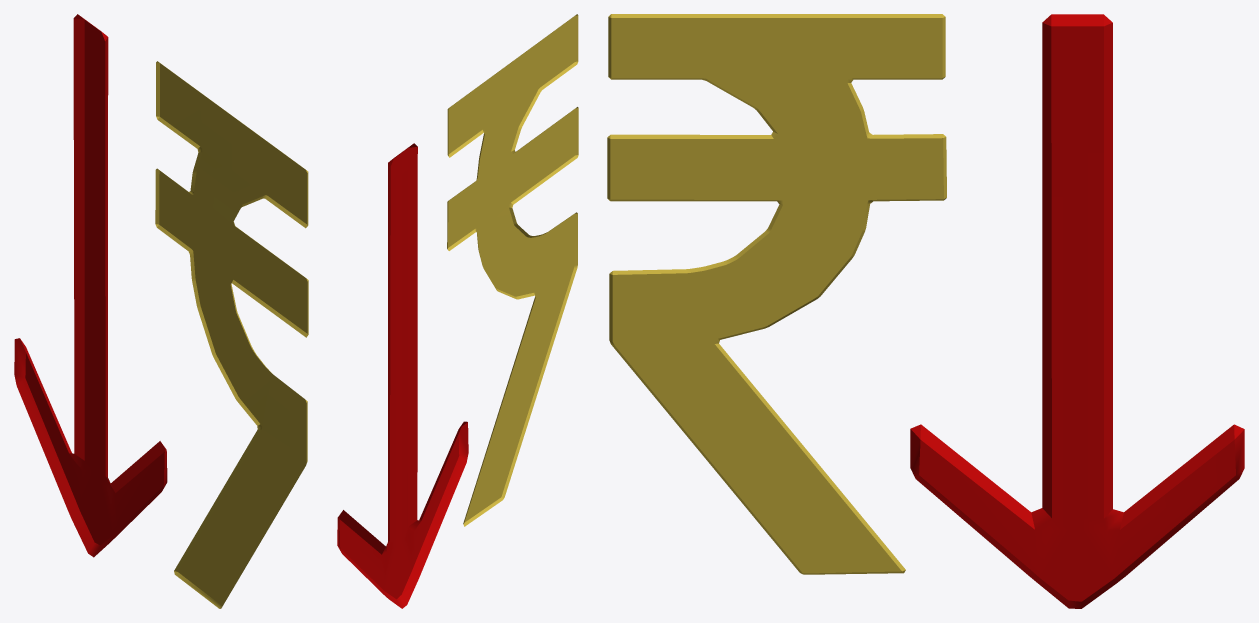
The model's file is inflation red.fbx.
3 renders of one model, left to right at view 1: azimuth 30°, elevation 25°; view 2: azimuth 150°, elevation 25°; view 3: azimuth 270°, elevation 25°, orthographic. The views are drawn at different scales.
Parts seen in each view (by area): view 1: pCube5, pCube6; view 2: pCube5, pCube6; view 3: pCube5, pCube6.
Part boxes in pixels (x1,y1,x2,y2): pCube5: (155,61,308,608); pCube6: (14,14,167,557); pCube5: (447,14,578,526); pCube6: (337,143,468,608); pCube5: (607,14,946,574); pCube6: (910,14,1244,608).
Bounding box in the file's own units: 0.1426 × 7.22 × 6.96.
